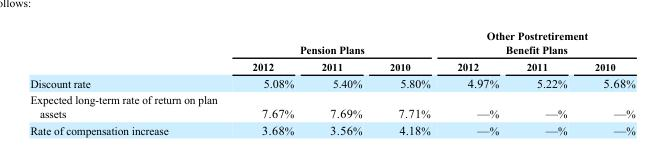table: (29, 28, 634, 136)
table column: (29, 28, 234, 136), (234, 28, 306, 136), (306, 28, 375, 136), (511, 28, 580, 136), (375, 28, 443, 136), (443, 28, 511, 136), (580, 28, 634, 136)
table column header: (29, 28, 634, 74)
table row: (29, 91, 634, 121), (29, 28, 634, 57), (29, 57, 634, 74), (29, 74, 634, 91), (29, 121, 634, 136)
table spanning cell: (234, 28, 443, 57), (443, 28, 634, 57)
